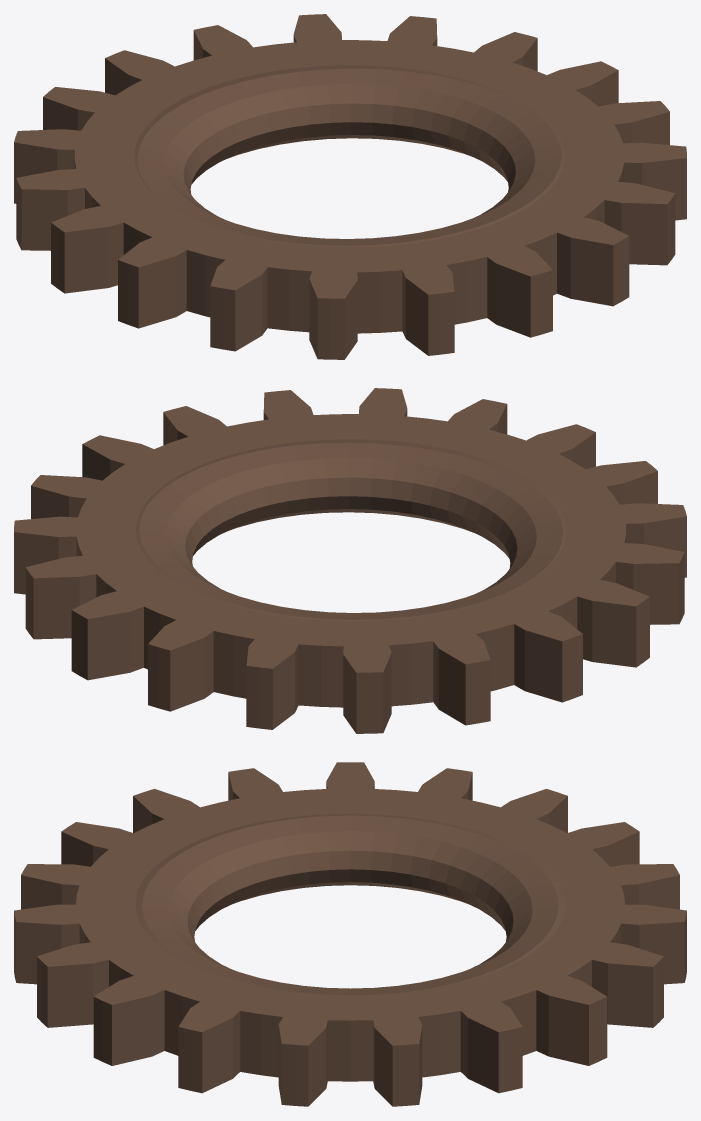
Rendered from gameGear.gltf.
The picture shows the model from 3 angles, top to bottom: view 1: azimuth 30°, elevation 25°; view 2: azimuth 150°, elevation 25°; view 3: azimuth 270°, elevation 25°; orthographic projection.
Visible parts, largest first — view 1: Gear; view 2: Gear; view 3: Gear.
Part boxes in pixels (x1,y1,x2,y2): Gear: (14,14,686,359); Gear: (14,388,686,733); Gear: (14,762,686,1106).
Bounding box in the file's own units: 2.59 × 0.2714 × 2.6.
